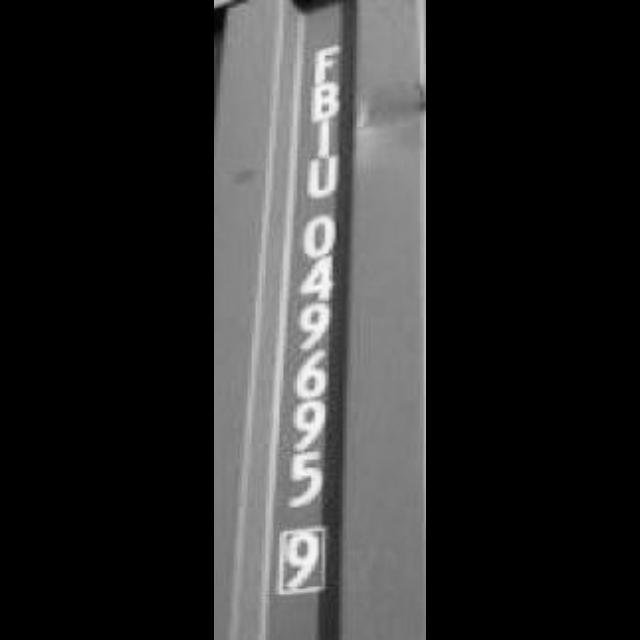0: (288, 206, 346, 264)
4: (292, 250, 348, 306)
5: (281, 446, 331, 514)
6: (286, 346, 336, 400)
9: (277, 530, 327, 594), (286, 395, 330, 451), (296, 304, 332, 352)
b: (304, 80, 354, 128)
f: (286, 32, 352, 86)
i: (304, 112, 350, 160)
u: (296, 153, 348, 200)
